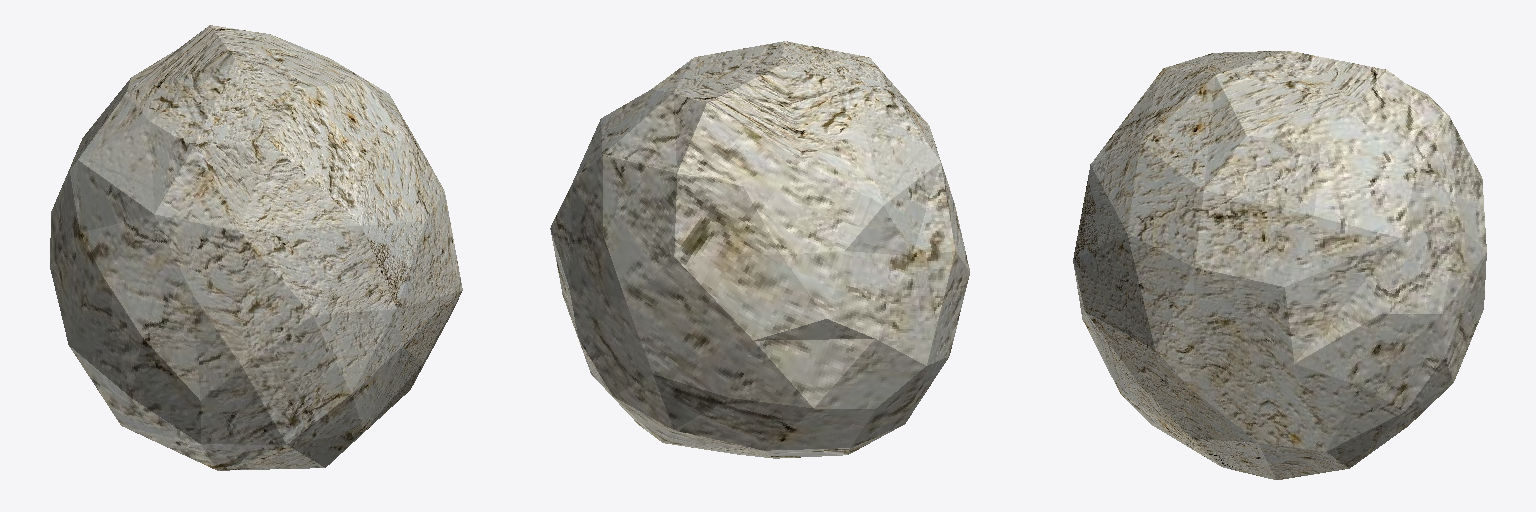
The picture shows the model from 3 angles: view 1: azimuth 30°, elevation 25°; view 2: azimuth 150°, elevation 25°; view 3: azimuth 270°, elevation 25°; orthographic projection.
Parts seen in each view (by area): view 1: rock.001; view 2: rock.001; view 3: rock.001.
Boxes of the visible parts, x1,y1,x2,y2 form: rock.001: [50, 25, 462, 470]; rock.001: [550, 41, 969, 458]; rock.001: [1073, 51, 1486, 479].
Size of the model in its own units: 2.41 by 2.63 by 2.5.
1 materials, 1 textured.